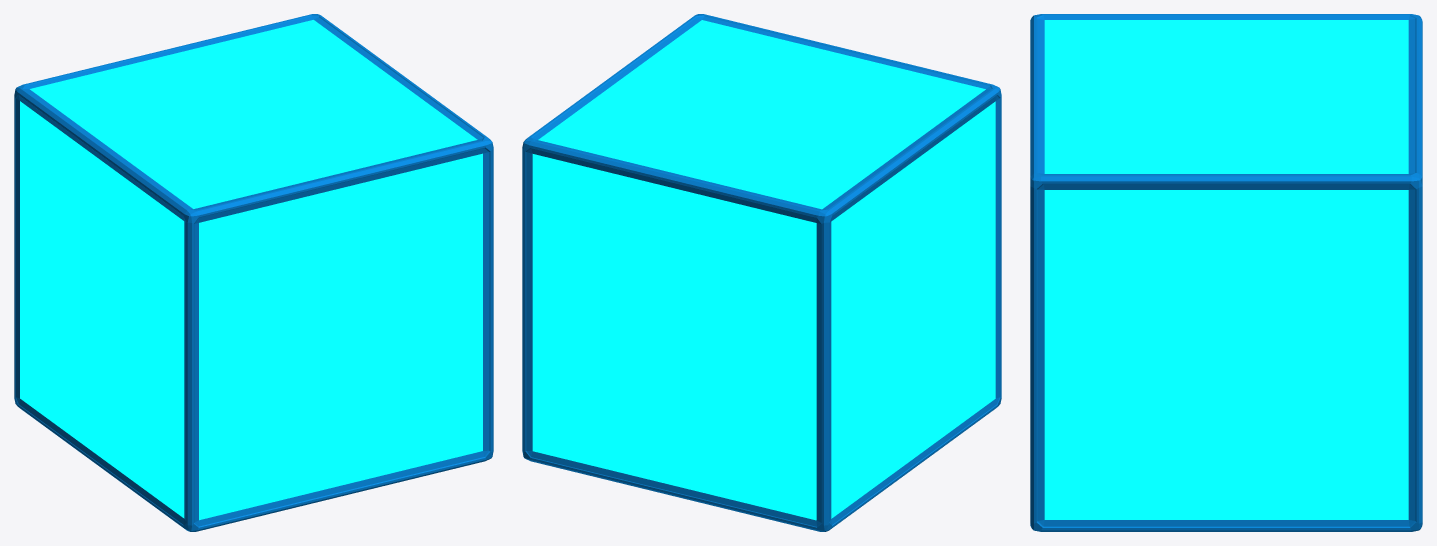
The model's file is tesseract.fbx.
3 renders of one model, left to right at view 1: azimuth 30°, elevation 25°; view 2: azimuth 150°, elevation 25°; view 3: azimuth 270°, elevation 25°, orthographic. The views are drawn at different scales.
Visible parts, largest first — view 1: Cube; view 2: Cube; view 3: Cube.
Part boxes in pixels (box(x1,y1,x2,y2)): Cube: box(14, 14, 493, 531); Cube: box(522, 14, 1001, 531); Cube: box(1030, 14, 1422, 531).
Size of the model in its own units: 1489 by 1488 by 1489.
